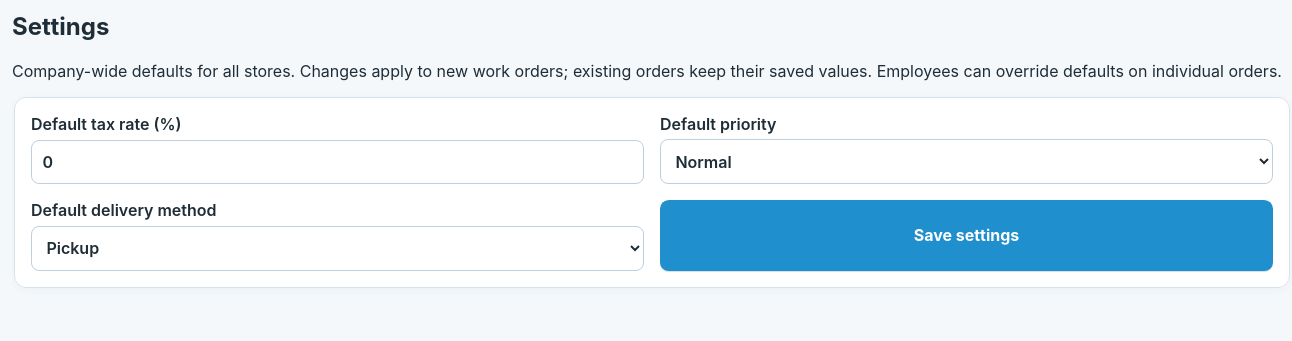
Test case: loads defaults, saves tax changes, and updates defaults used for new orders
Replace the text in the number field labelled "Default tax rate (%)" with "8.625": x=338, y=162 [31,140,644,184]
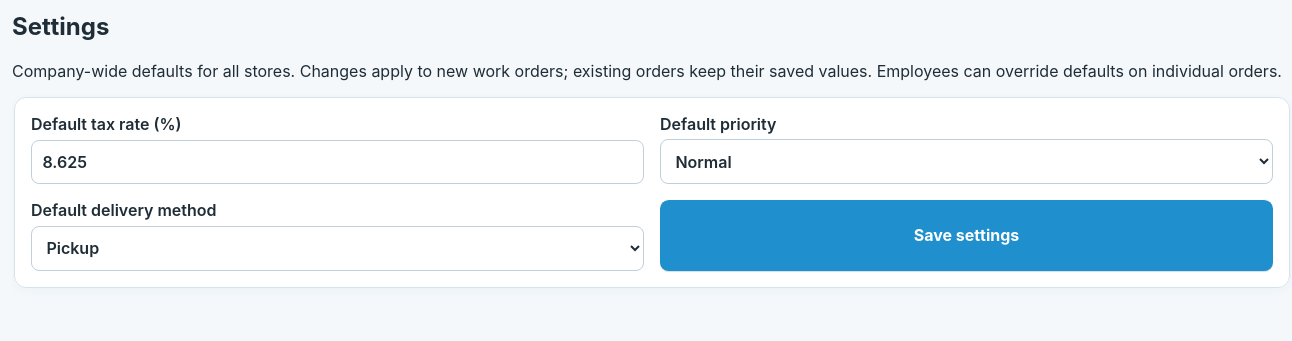
Click the button "Save settings": x=966, y=235 [660,200,1273,271]
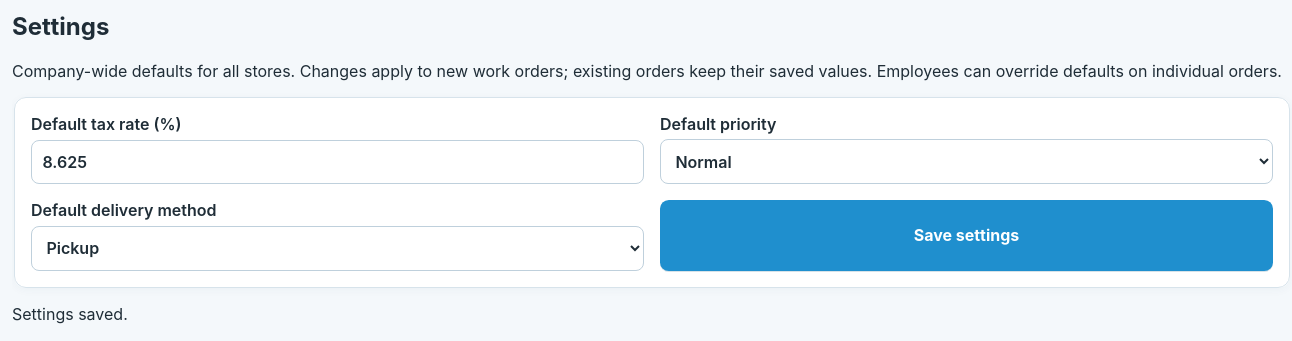
Now the message reads "Settings saved.", box [12,304,128,324]
